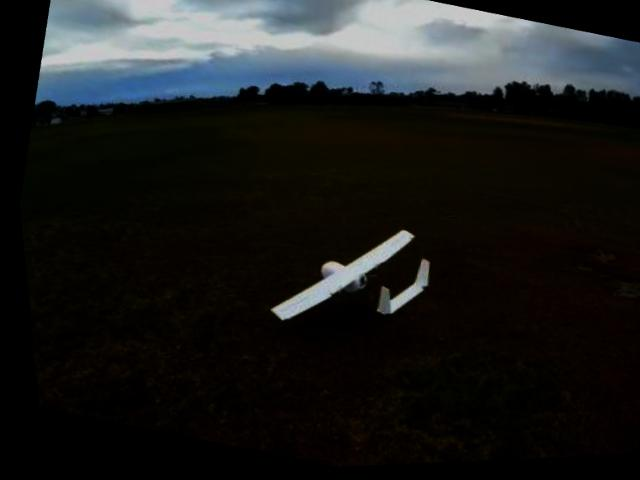uav: (250, 197, 441, 357)
